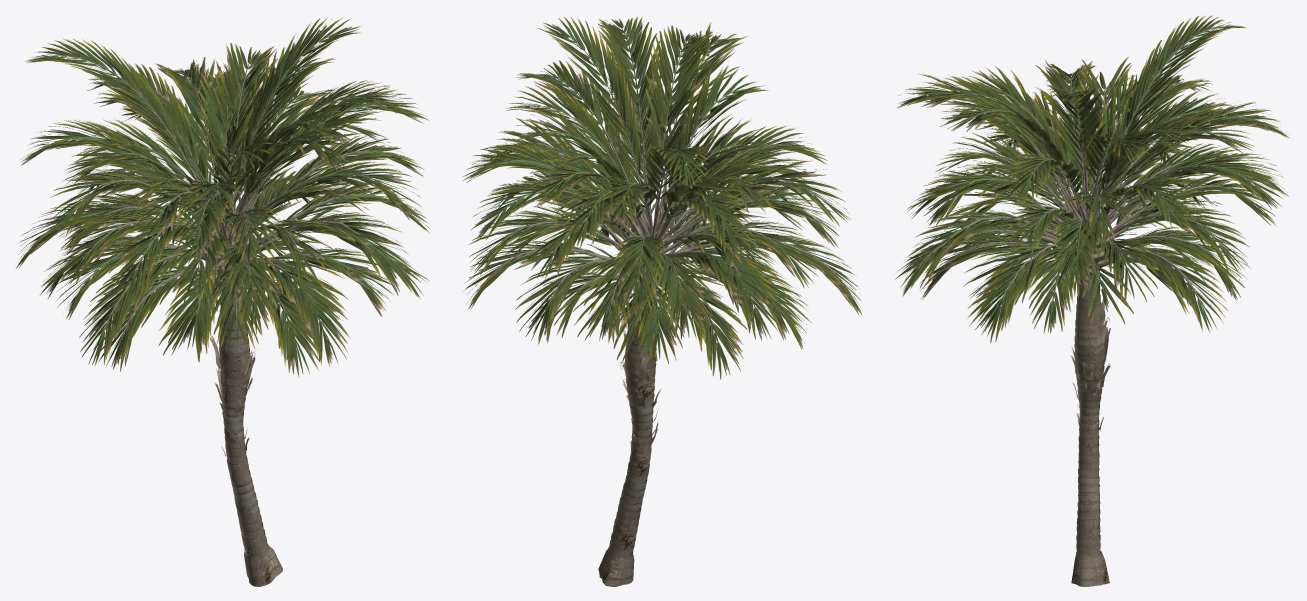
File: palm.glb
3 renders of one model, left to right at view 1: azimuth 30°, elevation 25°; view 2: azimuth 150°, elevation 25°; view 3: azimuth 270°, elevation 25°, orthographic. The views are drawn at different scales.
Visible parts, largest first — view 1: Fronds.003, Branches.003, Cylinder.001, Branches.004, Fronds.002; view 2: Fronds.003, Branches.003, Cylinder.001, Branches.004, Fronds.002; view 3: Fronds.003, Branches.003, Cylinder.001, Fronds.002, Branches.004.
Part boxes in pixels (left/top/right/bottom): Fronds.003: left=16, top=17, right=429, bottom=376; Branches.003: left=19, top=19, right=423, bottom=369; Cylinder.001: left=218, top=287, right=269, bottom=556; Branches.004: left=244, top=545, right=282, bottom=586; Fronds.002: left=209, top=293, right=255, bottom=456; Fronds.003: left=463, top=16, right=861, bottom=379; Branches.003: left=467, top=18, right=860, bottom=369; Cylinder.001: left=607, top=277, right=656, bottom=559; Branches.004: left=598, top=549, right=634, bottom=586; Fronds.002: left=619, top=295, right=661, bottom=465; Fronds.003: left=895, top=15, right=1290, bottom=342; Branches.003: left=901, top=17, right=1285, bottom=330; Cylinder.001: left=1074, top=272, right=1105, bottom=558; Fronds.002: left=1070, top=282, right=1110, bottom=449; Branches.004: left=1071, top=551, right=1109, bottom=586.
Bounding box in the file's own units: 5.01 × 6.86 × 4.67.
4 materials, 3 textured.
